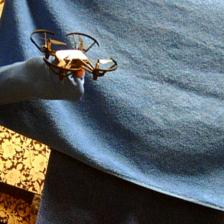drone: (31, 32, 118, 82)
